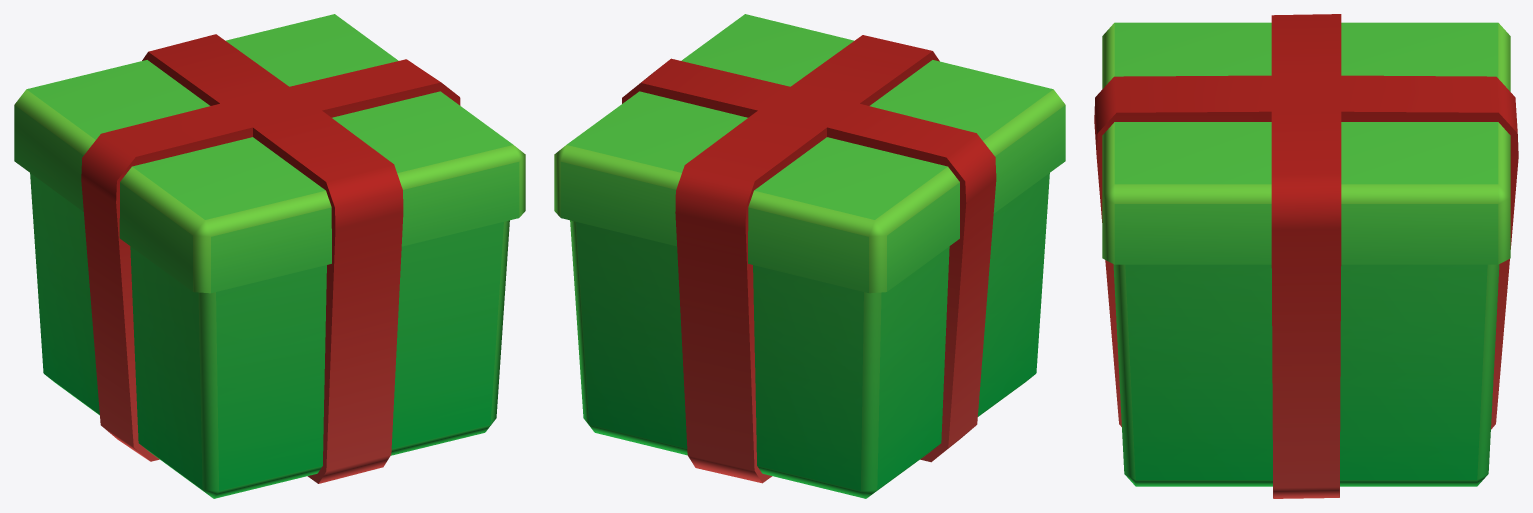
The model's file is giftbox_032.fbx.
The picture shows the model from 3 angles, left to right: view 1: azimuth 30°, elevation 25°; view 2: azimuth 150°, elevation 25°; view 3: azimuth 270°, elevation 25°; orthographic projection. The views are drawn at different scales.
Visible parts, largest first — view 1: giftbox_032; view 2: giftbox_032; view 3: giftbox_032.
Part boxes in pixels (x1,y1,x2,y2): giftbox_032: [14, 14, 525, 498]; giftbox_032: [554, 14, 1065, 498]; giftbox_032: [1094, 14, 1518, 498].
Bounding box in the file's own units: 181 × 179 × 155.
